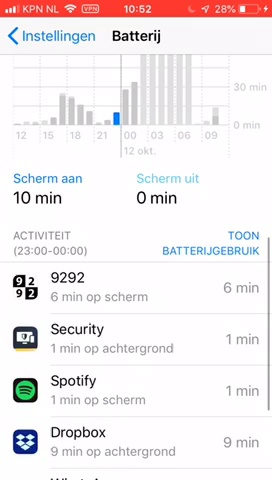activity: (10, 228, 97, 259)
app: (8, 267, 265, 308), (6, 316, 263, 357), (9, 366, 266, 407), (8, 418, 265, 459)
